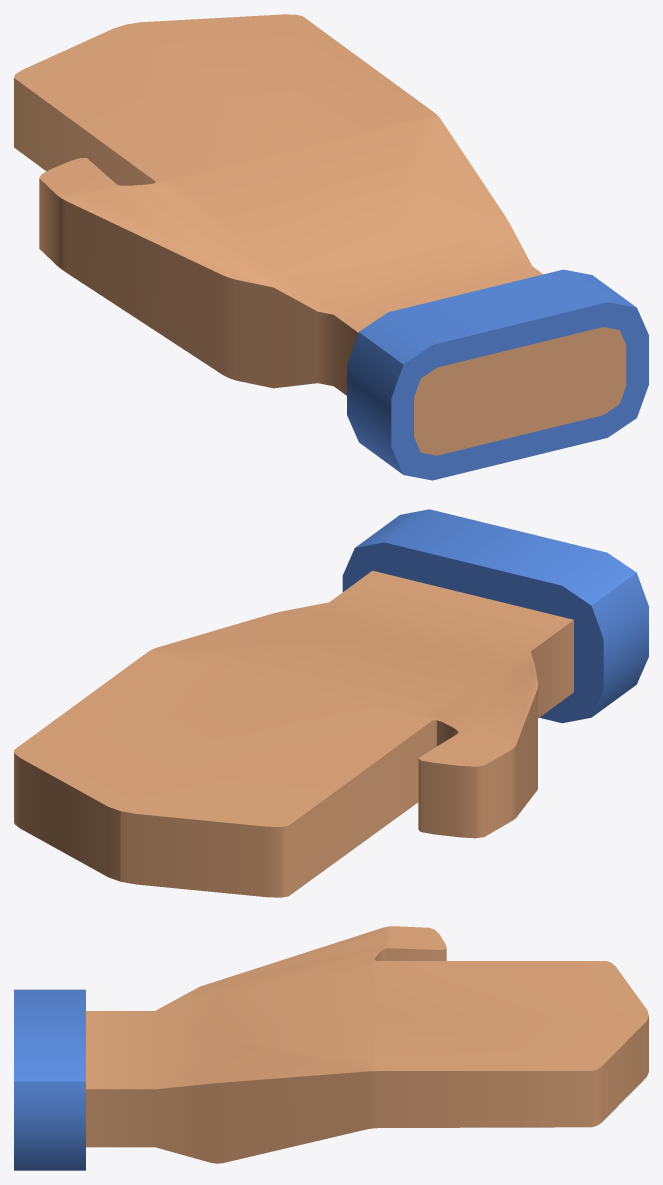
The model's file is Mano_j2_der.fbx.
3 renders of one model, top to bottom at view 1: azimuth 30°, elevation 25°; view 2: azimuth 150°, elevation 25°; view 3: azimuth 270°, elevation 25°, orthographic. The views are drawn at different scales.
Visible parts, largest first — view 1: Cube.010; view 2: Cube.010; view 3: Cube.010.
Boxes of the visible parts, x1=… form: Cube.010: x1=14, y1=14, x2=648, y2=480; Cube.010: x1=14, y1=509, x2=648, y2=897; Cube.010: x1=14, y1=926, x2=648, y2=1170.
Size of the model in its own units: 135 by 250 by 51.65.
